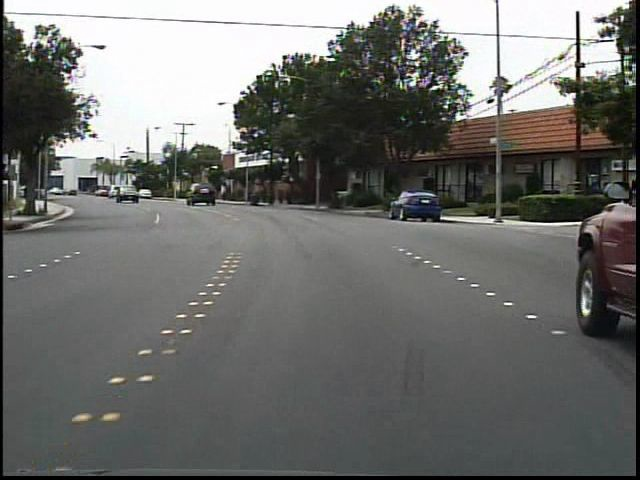person: (19, 178, 38, 208)
